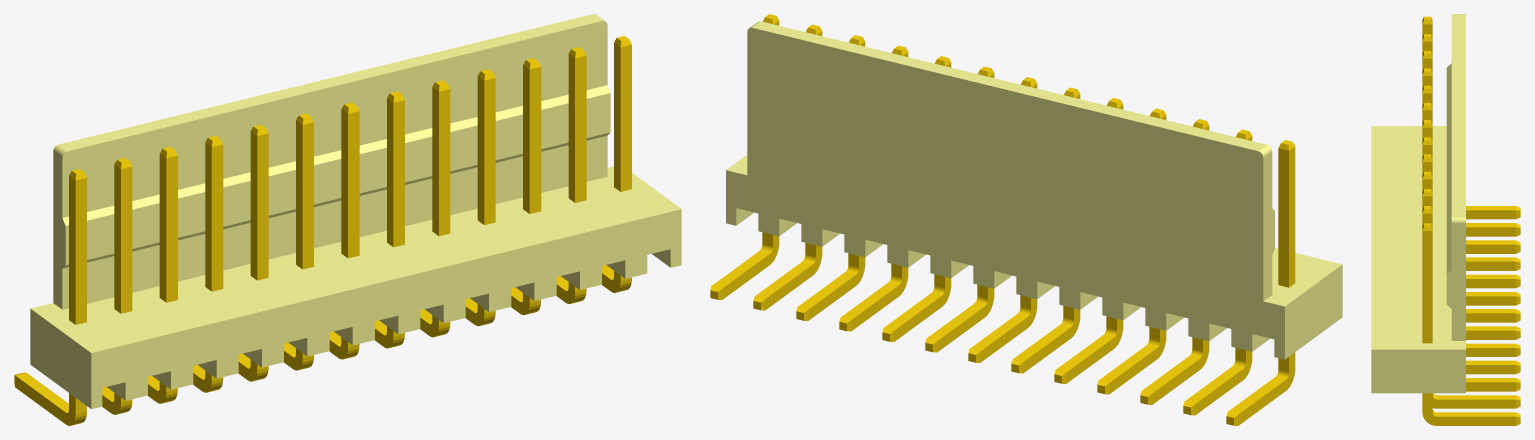
File: DS1070-13MR (WF-13RA CONNFLY).obj
The picture shows the model from 3 angles, left to right: view 1: azimuth 30°, elevation 25°; view 2: azimuth 150°, elevation 25°; view 3: azimuth 270°, elevation 25°; orthographic projection. The views are drawn at different scales.
Parts seen in each view (by area): view 1: DS1070-13MR_(WF-13RA_CONNFLY); view 2: DS1070-13MR_(WF-13RA_CONNFLY); view 3: DS1070-13MR_(WF-13RA_CONNFLY).
Part boxes in pixels (x1,y1,x2,y2): DS1070-13MR_(WF-13RA_CONNFLY): [14, 14, 681, 425]; DS1070-13MR_(WF-13RA_CONNFLY): [710, 14, 1342, 425]; DS1070-13MR_(WF-13RA_CONNFLY): [1371, 14, 1520, 425].
Bounding box in the file's own units: 0.0259 × 0.011 × 0.00729.
